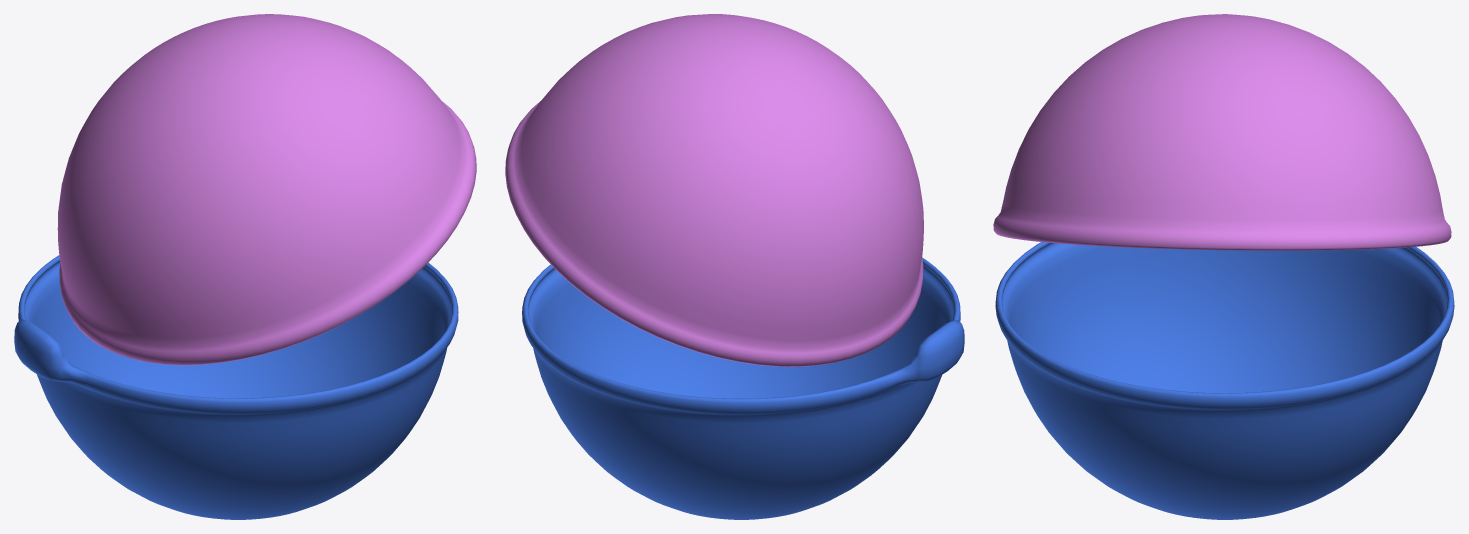
The model's file is ball.fbx.
The picture shows the model from 3 angles, left to right: view 1: azimuth 30°, elevation 25°; view 2: azimuth 150°, elevation 25°; view 3: azimuth 270°, elevation 25°; orthographic projection. The views are drawn at different scales.
Parts seen in each view (by area): view 1: TopSphere, BottomSphere; view 2: TopSphere, BottomSphere; view 3: BottomSphere, TopSphere.
Boxes of the visible parts, x1,y1,x2,y2 form: TopSphere: (57,14,476,365); BottomSphere: (14,255,458,519); TopSphere: (505,14,923,366); BottomSphere: (522,257,964,519); BottomSphere: (995,242,1454,519); TopSphere: (993,14,1451,250).
Bounding box in the file's own units: 224 × 236 × 205.
